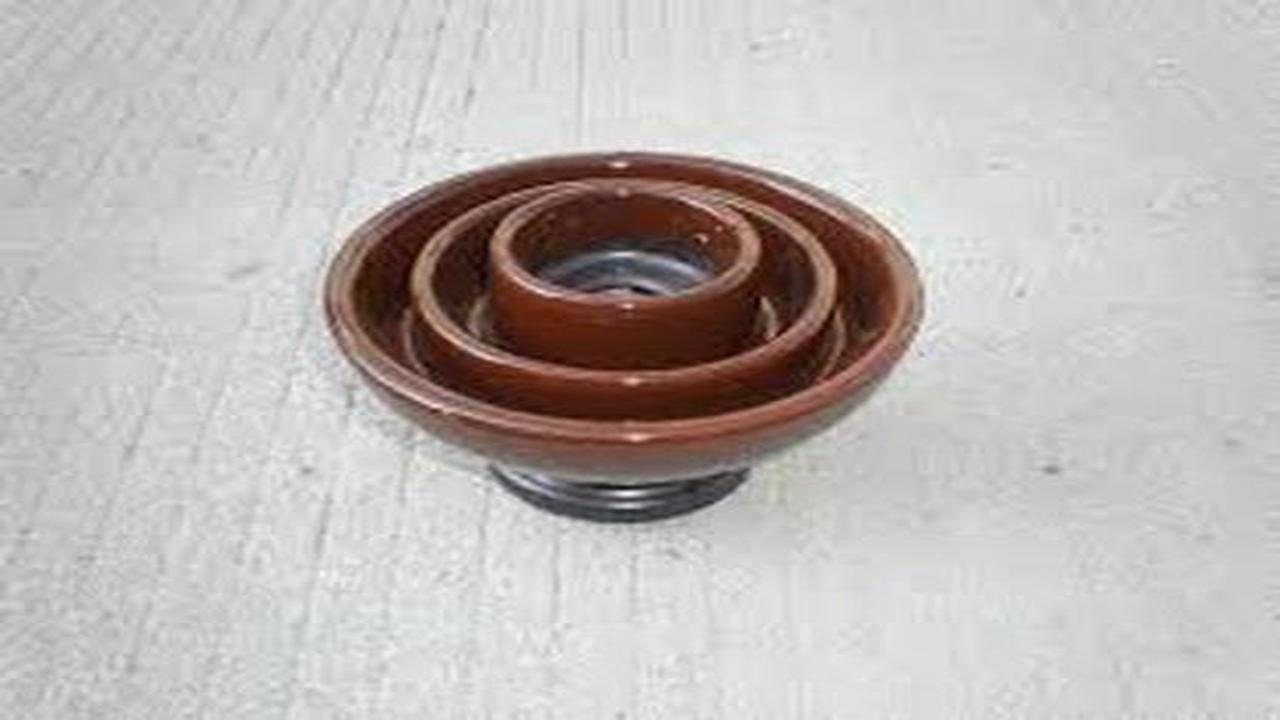insulator_pin: (311, 141, 921, 534)
